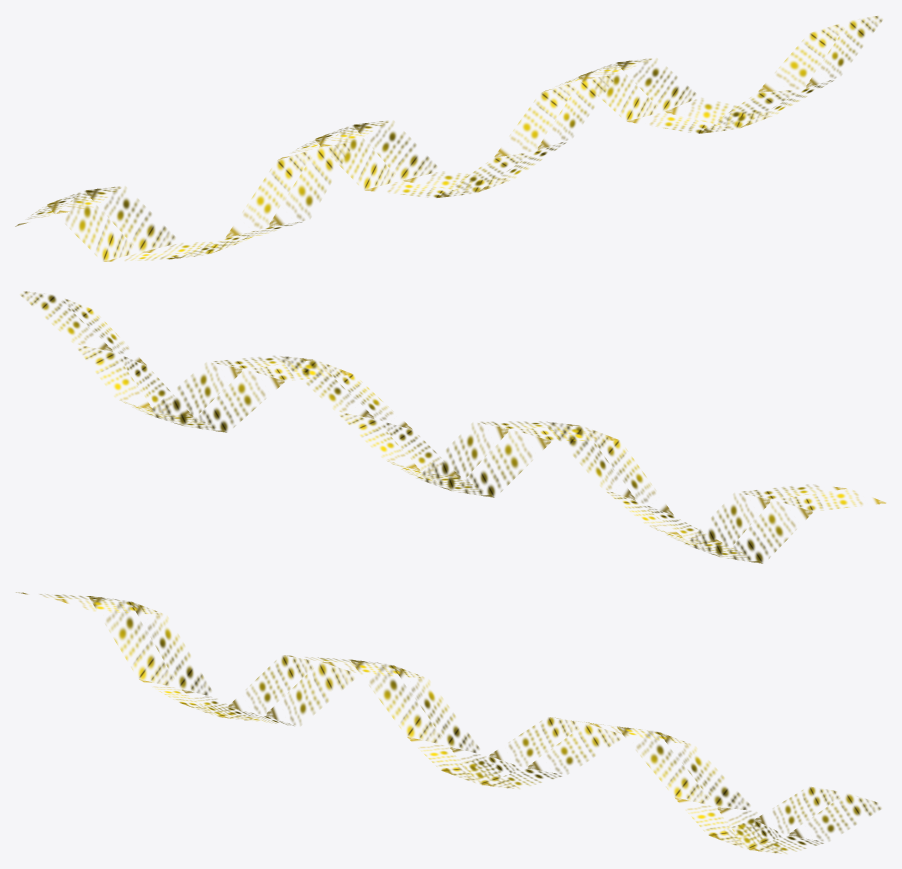
Rendered from interior-light06.glb.
3 views of the same model, one above another, from view 1: azimuth 30°, elevation 25°; view 2: azimuth 150°, elevation 25°; view 3: azimuth 330°, elevation 25° (orthographic).
Visible parts, largest first — view 1: InteriorLight06; view 2: InteriorLight06; view 3: InteriorLight06.
Part boxes in pixels (x1=…): InteriorLight06: x1=15, y1=16, x2=882, y2=261; InteriorLight06: x1=20, y1=291, x2=885, y2=563; InteriorLight06: x1=16, y1=592, x2=881, y2=853.
Bounding box in the file's own units: 3.96 × 0.3882 × 0.2875.
Materials: 1 (1 with a texture image).
